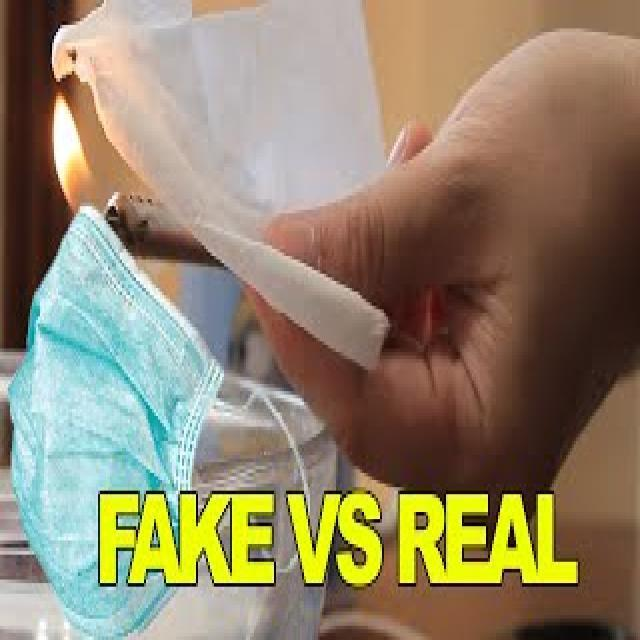face mask: (14, 203, 308, 633)
